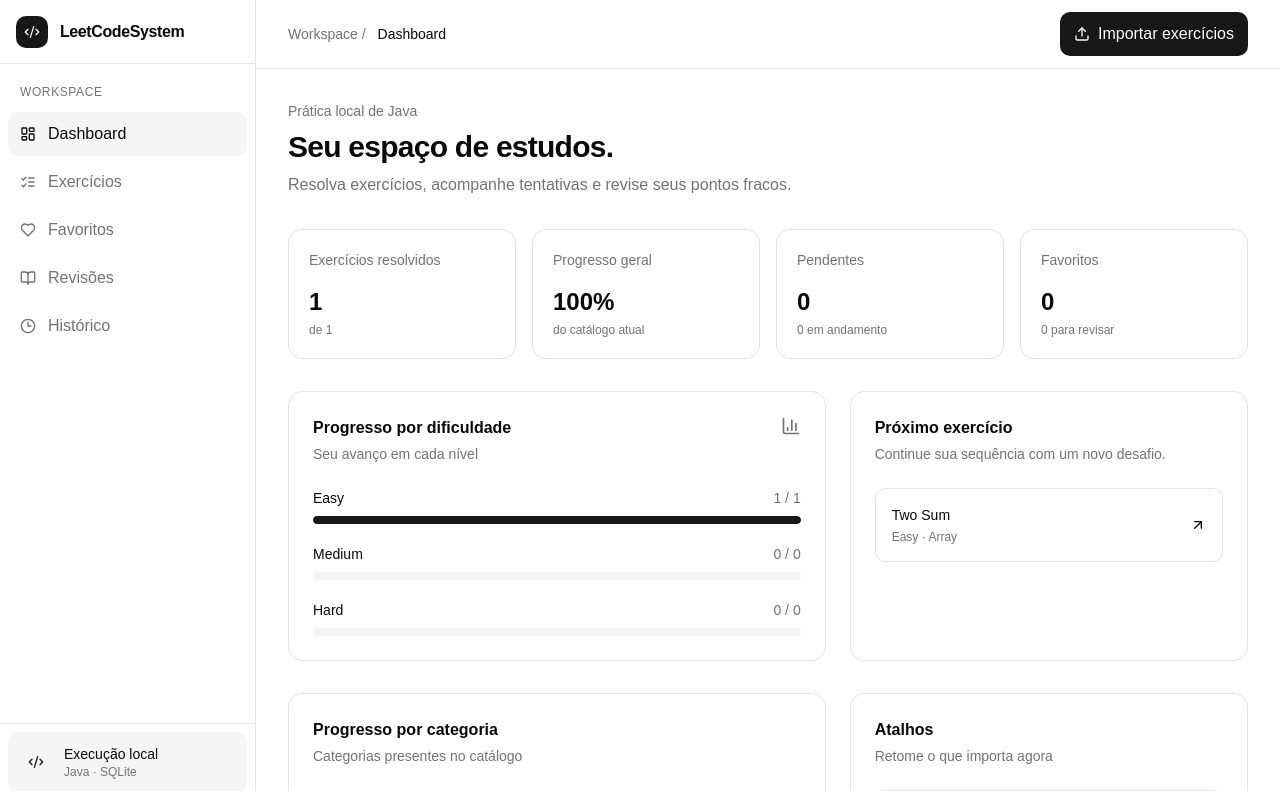
Test: Judge integration in the solver › persists favorite and review toggles and keeps review independent from status
Check: the heading "Seu espaço de estudos." is shown, box x1=288 y1=130 x2=613 y2=163
Click the button "Exercícios".
click(128, 182)  # box x1=8 y1=160 x2=247 y2=204
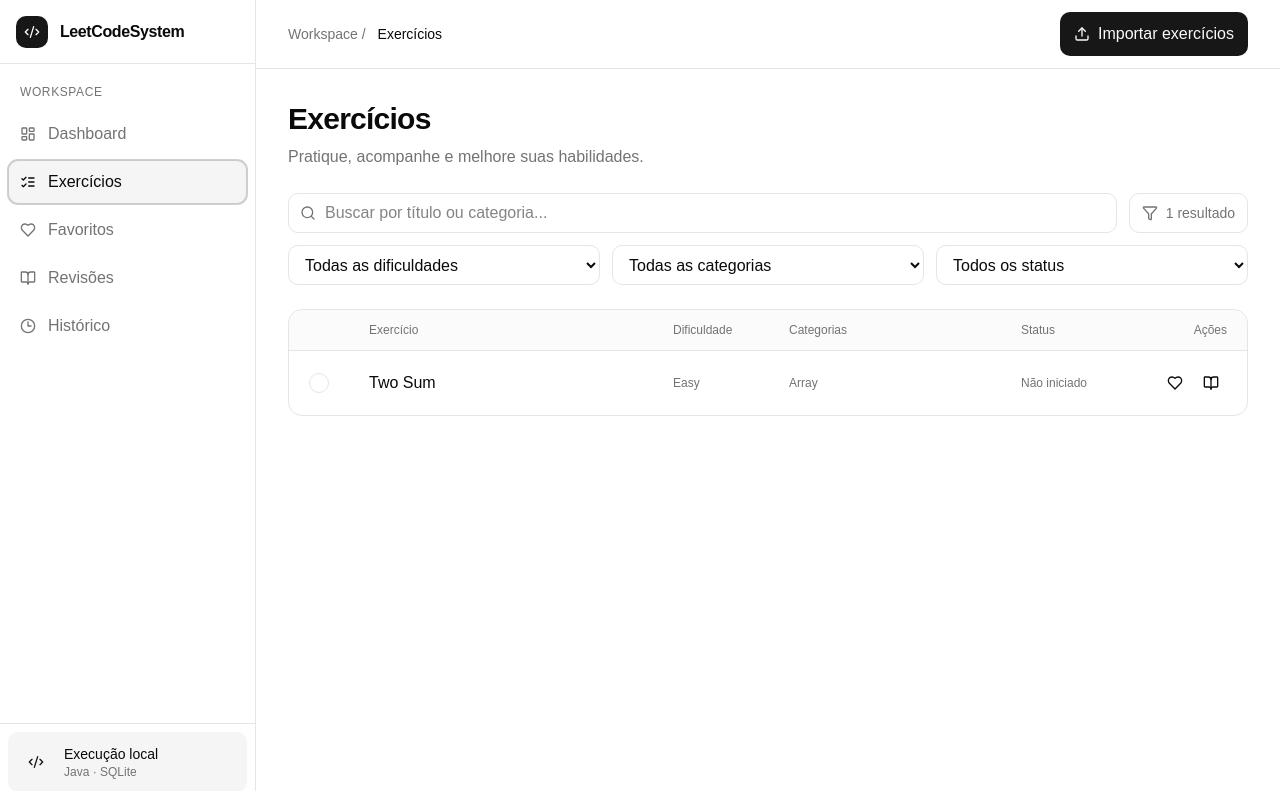
Click the button named "Adicionar aos favoritos".
click(1175, 383)  # box x1=1159 y1=367 x2=1191 y2=399
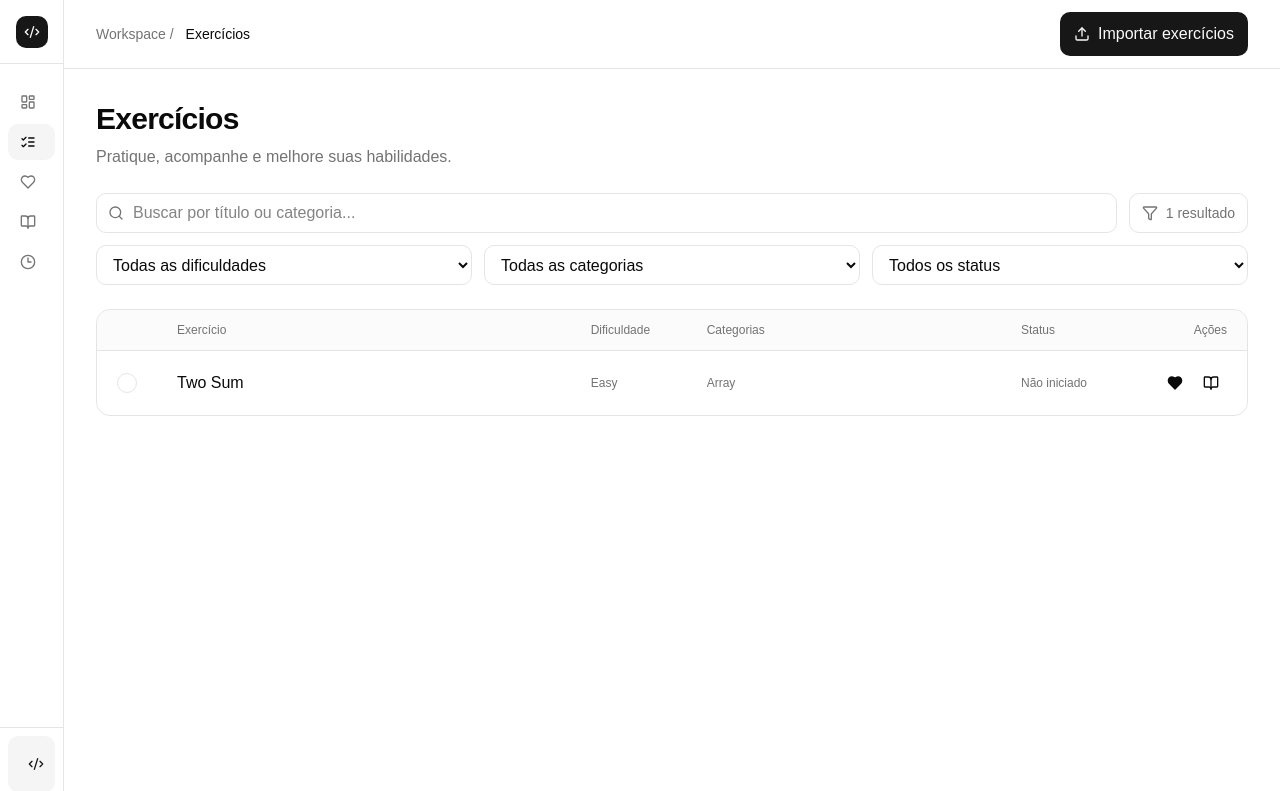
Check: the button named "Remover dos favoritos" is shown, box x1=1159 y1=367 x2=1191 y2=399
Click the button named "Marcar para revisão".
click(1211, 383)  # box x1=1195 y1=367 x2=1227 y2=399
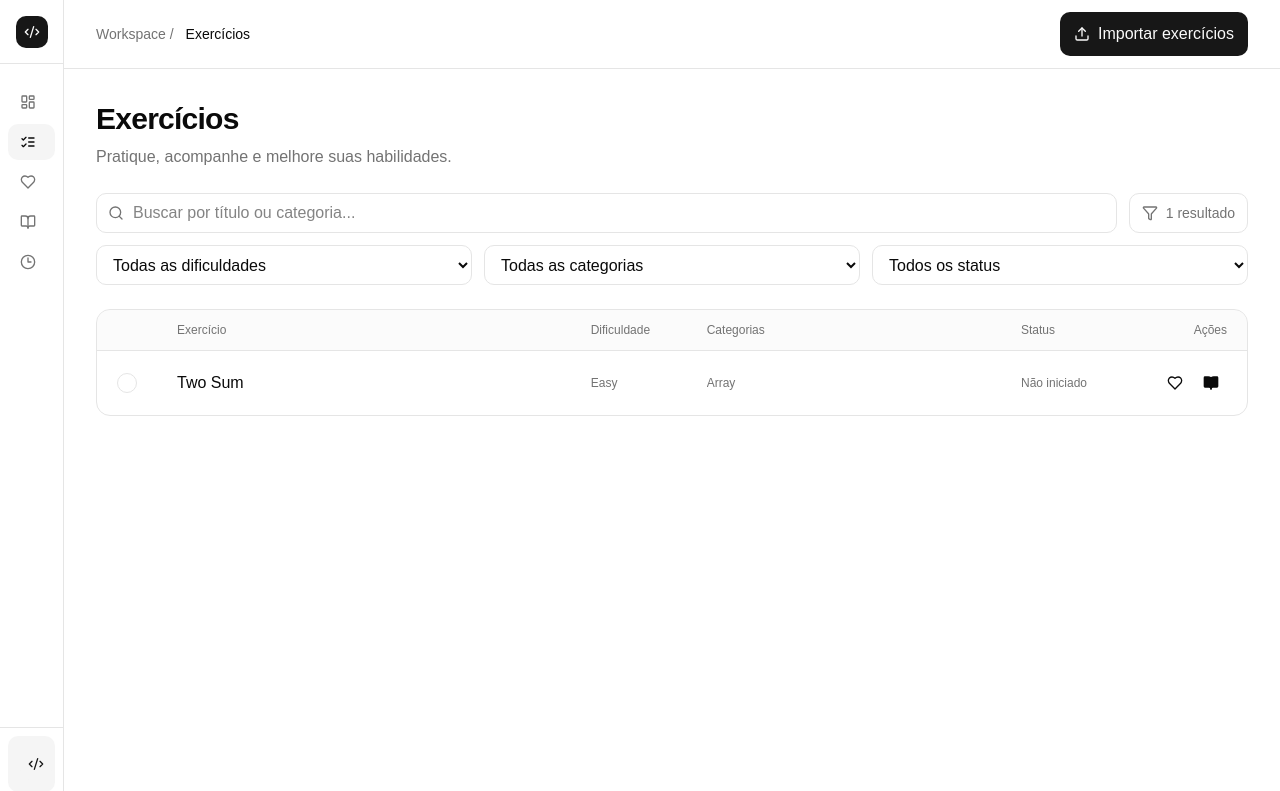
Check: the text "Não iniciado" is shown, box x1=1021 y1=376 x2=1087 y2=390
Check: the button named "Remover da revisão" is shown, box x1=1195 y1=367 x2=1227 y2=399
